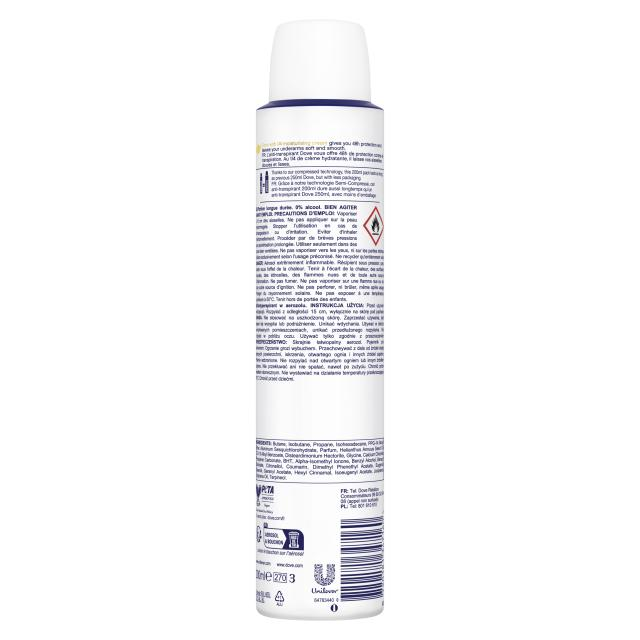GHS_Symbol_FLAME: (363, 206, 384, 247)
